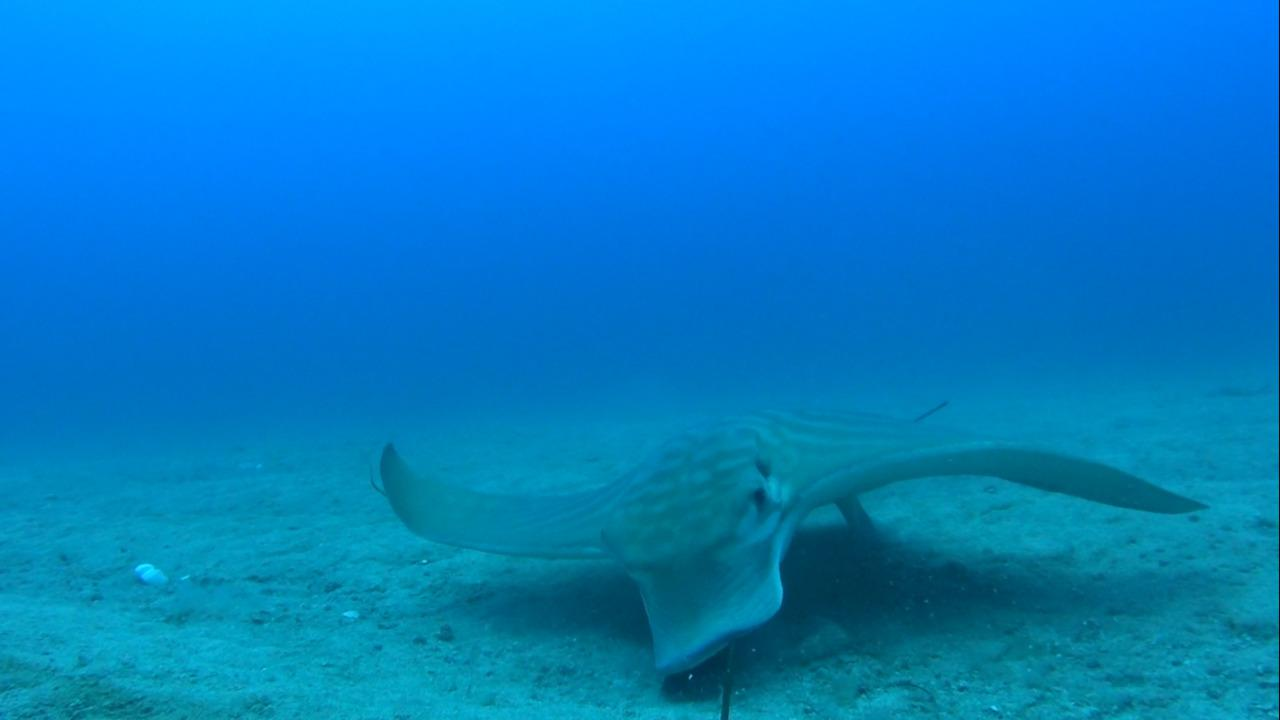myliobatis: (372, 394, 1216, 694)
